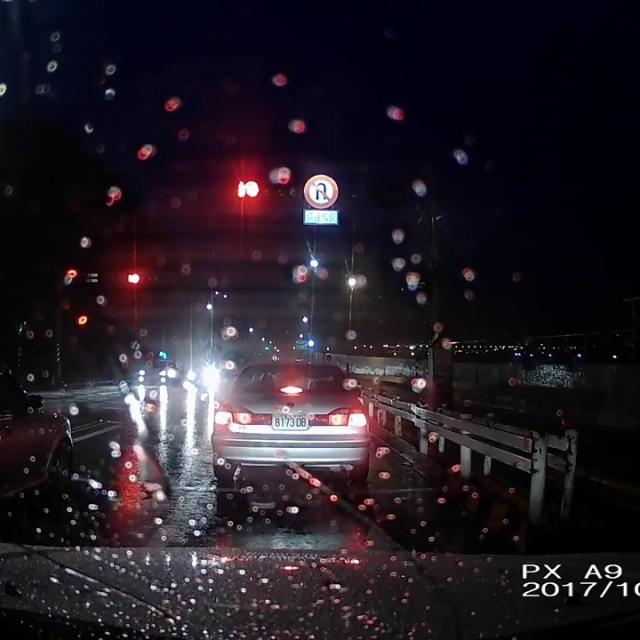Car: (208, 357, 370, 487), (0, 358, 74, 498), (134, 359, 185, 387)
